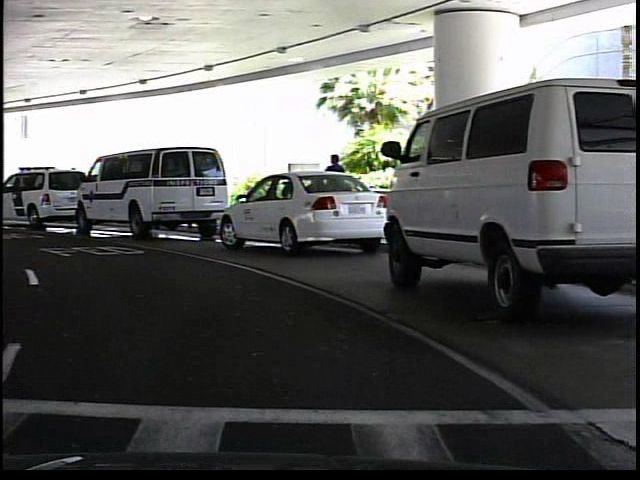person: (322, 150, 352, 232)
